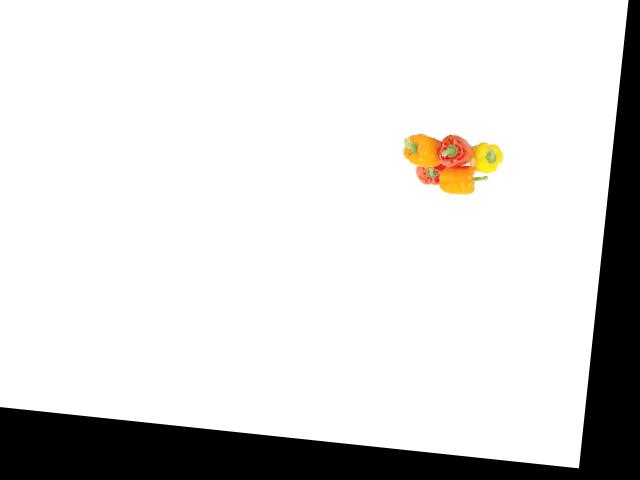bell_pepper: (392, 127, 445, 172)
